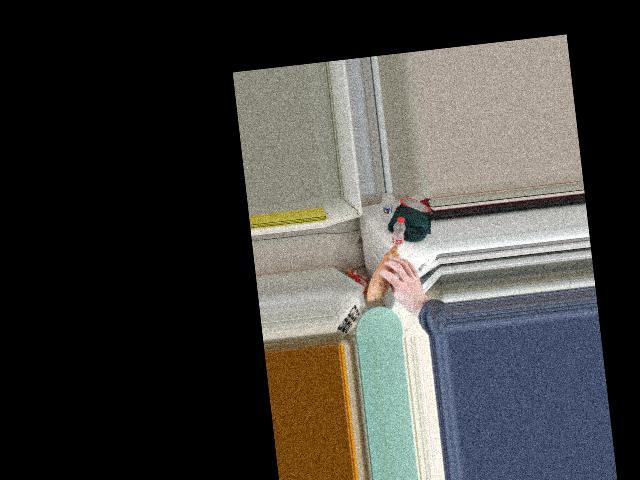sweet_potato: (362, 245, 409, 294)
